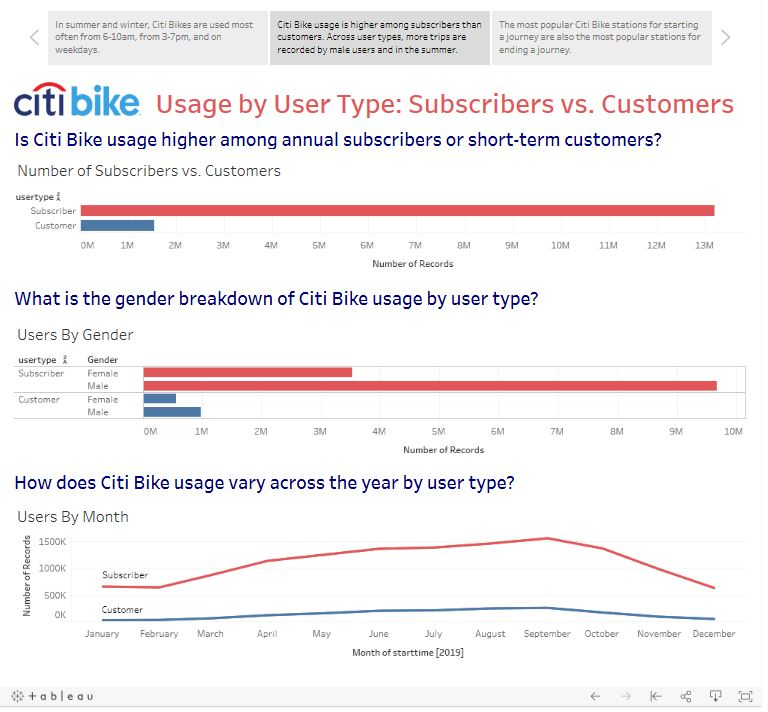

What the dashboard file says about the page in this screenshot:
{"tool":"tableau","page":{"name":"Dashboard2_UserType","canvas":[1000,800],"ordinal":1},"visuals":[{"type":"image","param":"C:/Users/ivyfo/Dropbox/2019/Data Analytics Boot Camp 2019/DA Boot Camp - Homewor","box":[8,8,181,61]},{"type":"text","box":[189,8,803,61]},{"type":"text","box":[8,69,984,37]},{"type":"worksheet","title":"Number of Subscribers vs. Customers","mark":"Automatic","rows":["usertype"],"cols":["Number of Records"],"box":[8,106,984,170.1]},{"type":"text","box":[8,276.1,984,47.8]},{"type":"worksheet","title":"Users By Gender","mark":"Automatic","rows":["usertype","Calculation_194217759713882115"],"cols":["Number of Records"],"box":[8,323.9,984,198.8]},{"type":"text","box":[8,522.8,984,43.9]},{"type":"worksheet","title":"Users By Month","mark":"Automatic","rows":["Number of Records"],"cols":["starttime"],"box":[8,566.6,984,225.4]}]}

Visuals, with their boxes on the page's 1000x800 design canvas (x1, y1, x2, y2). These are canvas units, not pixel positions in the 768x712 screenshot, which may show the page scaled, cropped or inside an application window:
image: box(8, 8, 189, 69)
text: box(189, 8, 992, 69)
text: box(8, 69, 992, 106)
"Number of Subscribers vs. Customers" worksheet: box(8, 106, 992, 276)
text: box(8, 276, 992, 324)
"Users By Gender" worksheet: box(8, 324, 992, 523)
text: box(8, 523, 992, 567)
"Users By Month" worksheet: box(8, 567, 992, 792)
